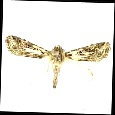Spodoptera litura: (4, 36, 112, 90)
